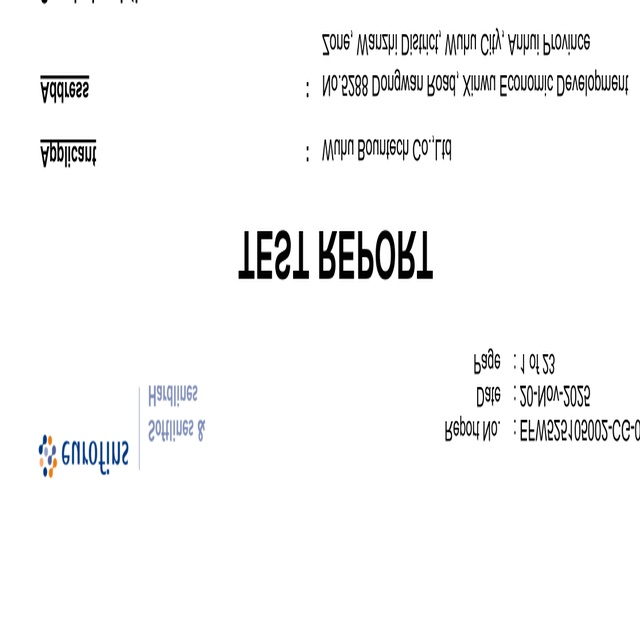eurofins: (30, 428, 134, 485)
